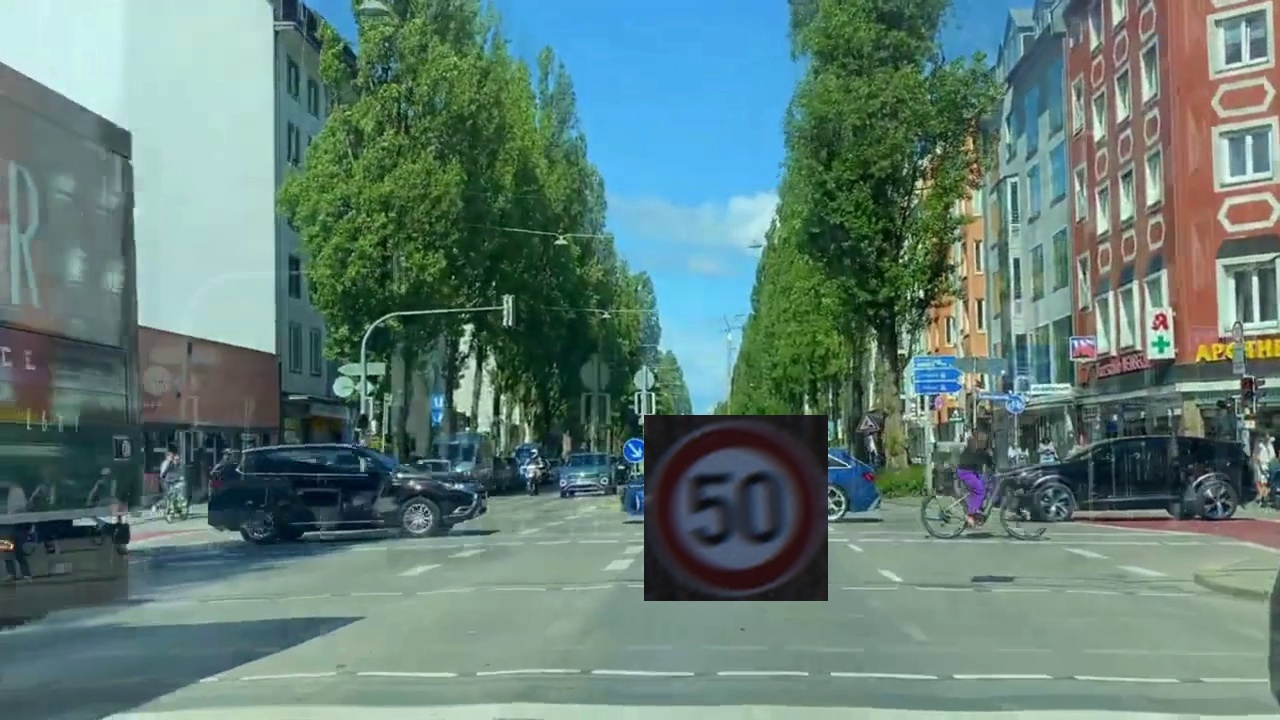Speed 50: (644, 415, 828, 601)
